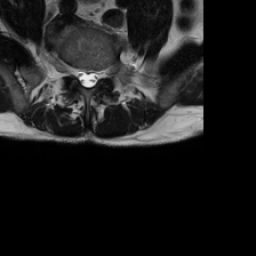CCS_normal: (83, 61, 90, 94)
LFS_normal: (97, 60, 106, 84)
LLS_normal: (90, 61, 97, 92)
RFS_normal: (69, 57, 76, 83)
RLS_normal: (76, 59, 83, 90)
